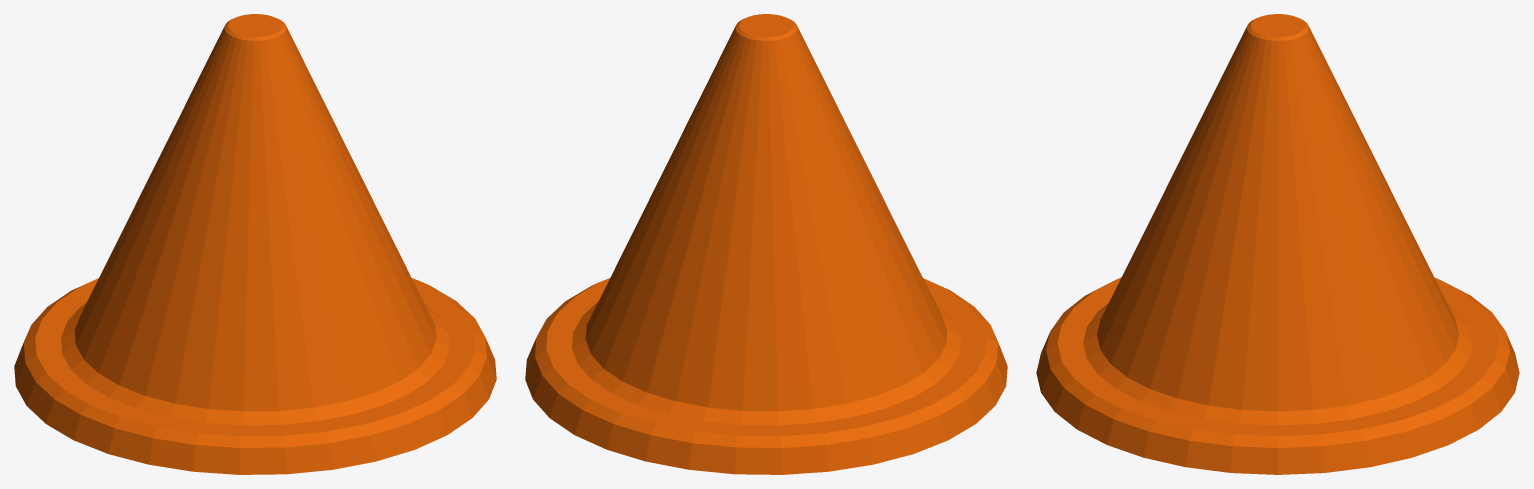
3 renders of one model, left to right at view 1: azimuth 30°, elevation 25°; view 2: azimuth 150°, elevation 25°; view 3: azimuth 270°, elevation 25°, orthographic.
Parts seen in each view (by area): view 1: Circle, Circle.002, Circle.001; view 2: Circle, Circle.002, Circle.001; view 3: Circle, Circle.002, Circle.001.
Boxes of the visible parts, x1,y1,x2,y2 form: Circle: (14,14,496,474); Circle.002: (96,243,414,357); Circle.001: (165,100,345,187); Circle: (525,14,1007,474); Circle.002: (607,243,925,357); Circle.001: (676,100,856,187); Circle: (1036,14,1519,474); Circle.002: (1119,246,1436,357); Circle.001: (1187,102,1368,187).
Size of the model in its own units: 191 by 152 by 191.
